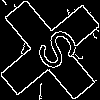S: (25, 25, 82, 81)
